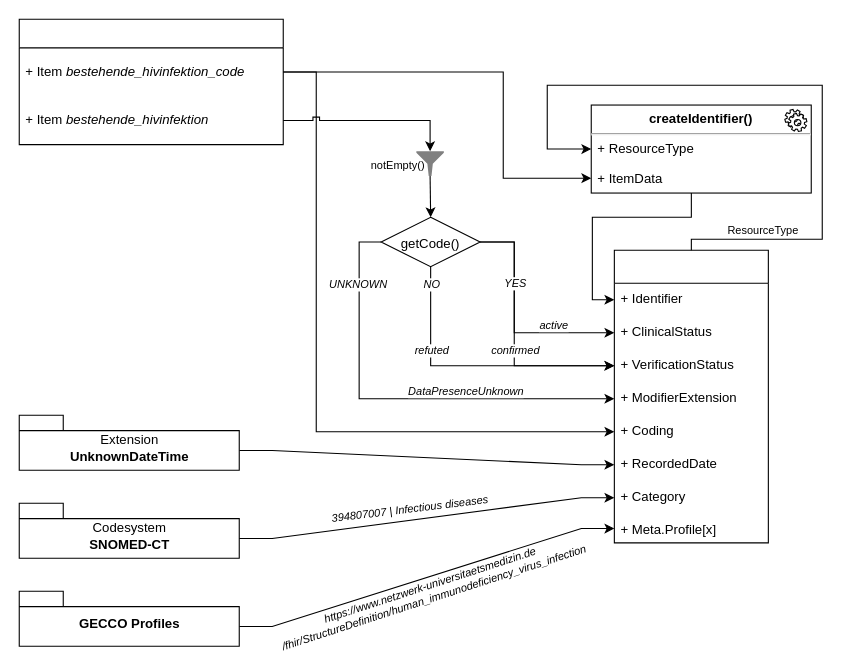
This 850x672 diagram has some shape labels left out. The shapes that lost their labels are listed below. From the top down, each one's box as (x1, y1, x2, y2) in pixels, then its label:
(18, 18, 283, 145): ODM
(613, 249, 768, 543): FHIR-Resource Condition
